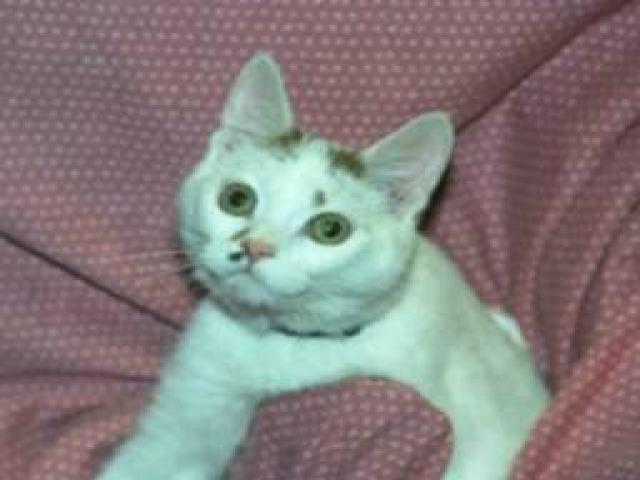cat: (104, 52, 554, 473)
